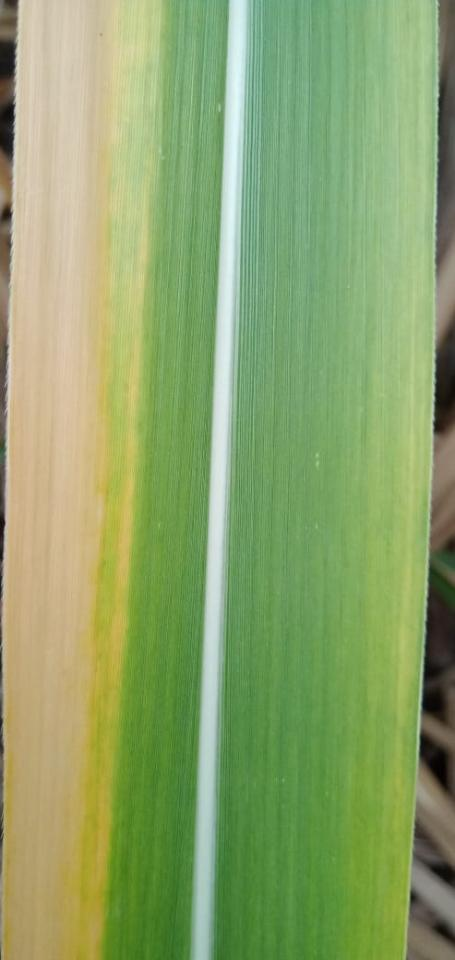Yellow: (2, 0, 153, 959)
